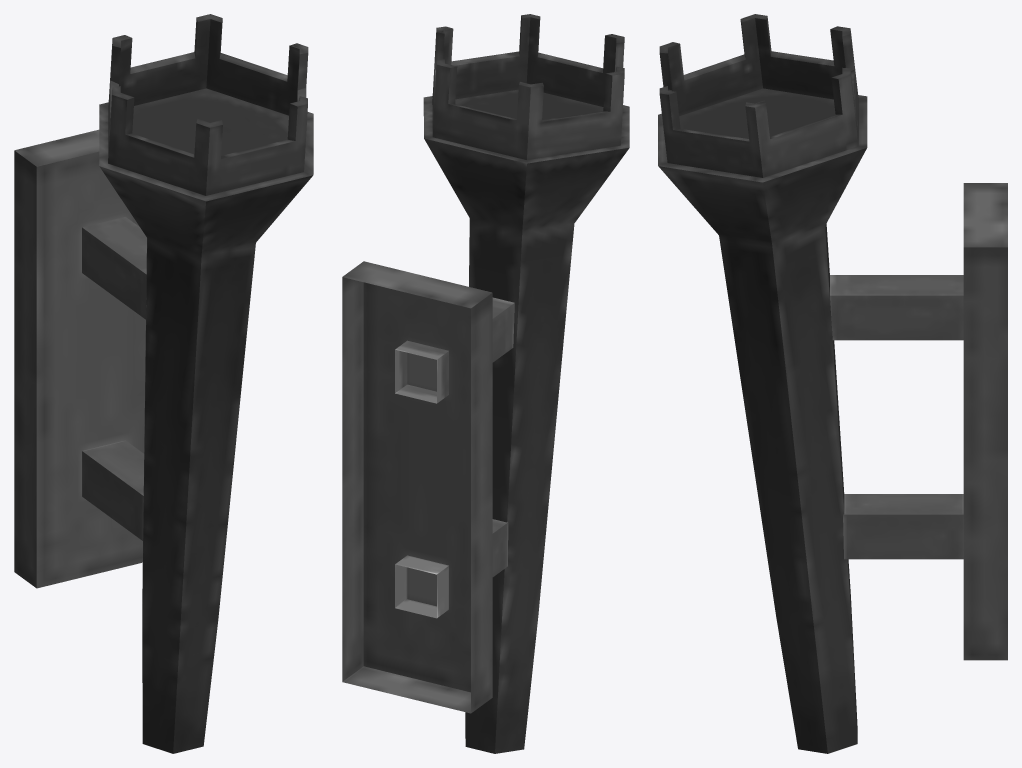
Rendered from CandleHandle.fbx.
3 renders of one model, left to right at view 1: azimuth 30°, elevation 25°; view 2: azimuth 150°, elevation 25°; view 3: azimuth 270°, elevation 25°, orthographic. The views are drawn at different scales.
Visible parts, largest first — view 1: candle_handle; view 2: candle_handle; view 3: candle_handle.
Boxes of the visible parts, bbox=[...] form: candle_handle: bbox=[14, 14, 313, 753]; candle_handle: bbox=[342, 14, 629, 753]; candle_handle: bbox=[658, 14, 1007, 753].
Bounding box in the file's own units: 98.37 × 309 × 142.
1 material, 1 textured.
